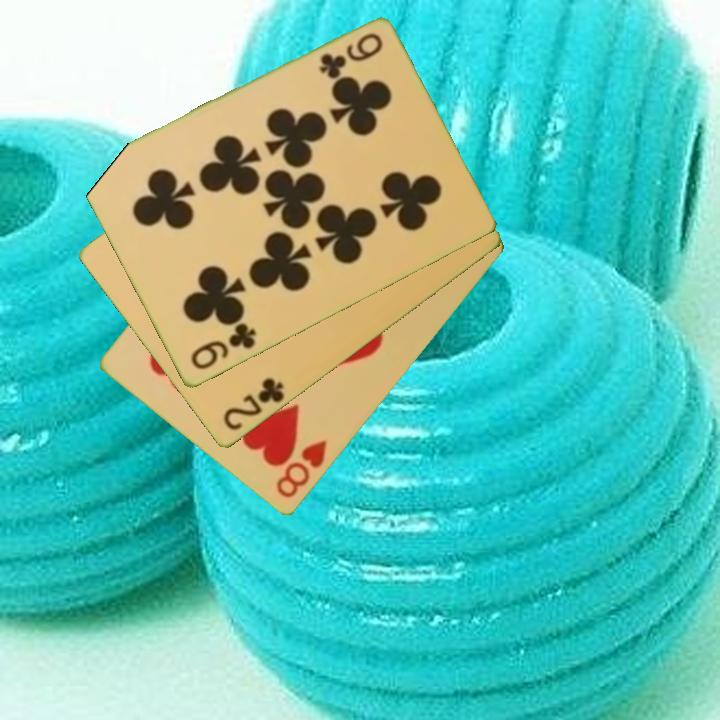2c: (219, 374, 288, 434)
8h: (272, 437, 330, 502)
9c: (186, 320, 259, 373), (314, 30, 386, 81)
